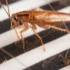cockroach: (10, 10, 70, 30)
